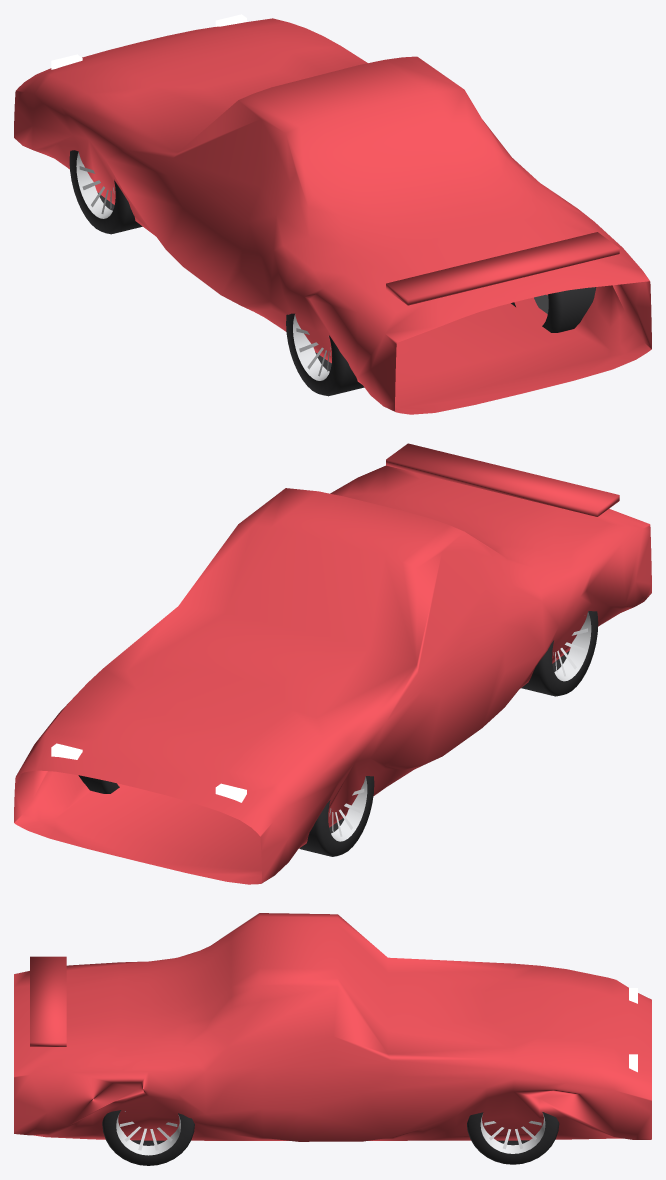
File: Car_Ford_Mustang_5.0_LX_Foxbody_1980s.glb
The picture shows the model from 3 angles, top to bottom: view 1: azimuth 30°, elevation 25°; view 2: azimuth 150°, elevation 25°; view 3: azimuth 270°, elevation 25°; orthographic projection. The views are drawn at different scales.
Visible parts, largest first — view 1: BODY_FordMustangFoxbody_MainHull, AERO_MustangFoxbody_Spoiler, WHEEL_RR_Tire, WHEEL_FR_Tire, WHEEL_RL_Tire, WHEEL_RR_Rim, WHEEL_FR_Rim; view 2: BODY_FordMustangFoxbody_MainHull, AERO_MustangFoxbody_Spoiler, WHEEL_RR_Tire, WHEEL_FR_Tire, WHEEL_RR_Rim, WHEEL_FR_Rim, LIGHT_Headlights_MustangFoxbody; view 3: BODY_FordMustangFoxbody_MainHull, AERO_MustangFoxbody_Spoiler, WHEEL_RL_Tire, WHEEL_FL_Tire, WHEEL_RL_Rim, WHEEL_FL_Rim.
Part boxes in pixels (box(x1,y1,x2,y2)): BODY_FordMustangFoxbody_MainHull: box(14, 18, 651, 414); AERO_MustangFoxbody_Spoiler: box(386, 232, 619, 305); WHEEL_RR_Tire: box(286, 313, 364, 396); WHEEL_FR_Tire: box(69, 150, 142, 234); WHEEL_RL_Tire: box(511, 287, 596, 332); WHEEL_RR_Rim: box(293, 314, 330, 380); WHEEL_FR_Rim: box(76, 152, 114, 218); BODY_FordMustangFoxbody_MainHull: box(14, 465, 651, 884); AERO_MustangFoxbody_Spoiler: box(386, 443, 619, 516); WHEEL_RR_Tire: box(521, 611, 598, 696); WHEEL_FR_Tire: box(299, 776, 374, 856); WHEEL_RR_Rim: box(553, 612, 591, 681); WHEEL_FR_Rim: box(329, 776, 367, 841); LIGHT_Headlights_MustangFoxbody: box(51, 743, 246, 802); BODY_FordMustangFoxbody_MainHull: box(14, 913, 651, 1141); AERO_MustangFoxbody_Spoiler: box(30, 956, 66, 1046); WHEEL_RL_Tire: box(102, 1110, 194, 1165); WHEEL_FL_Tire: box(467, 1112, 559, 1164); WHEEL_RL_Rim: box(116, 1111, 180, 1155); WHEEL_FL_Rim: box(480, 1114, 545, 1153).
Size of the model in its own units: 1.85 by 1.33 by 4.47.
